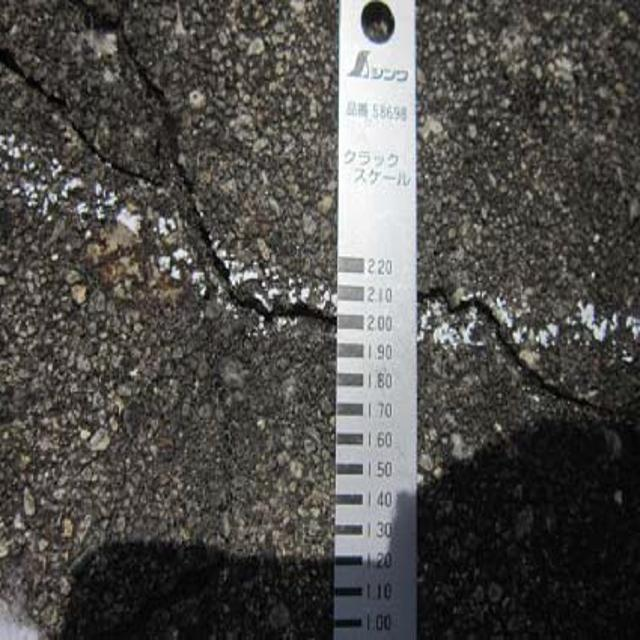crack: (10, 26, 329, 353), (441, 268, 640, 463)
